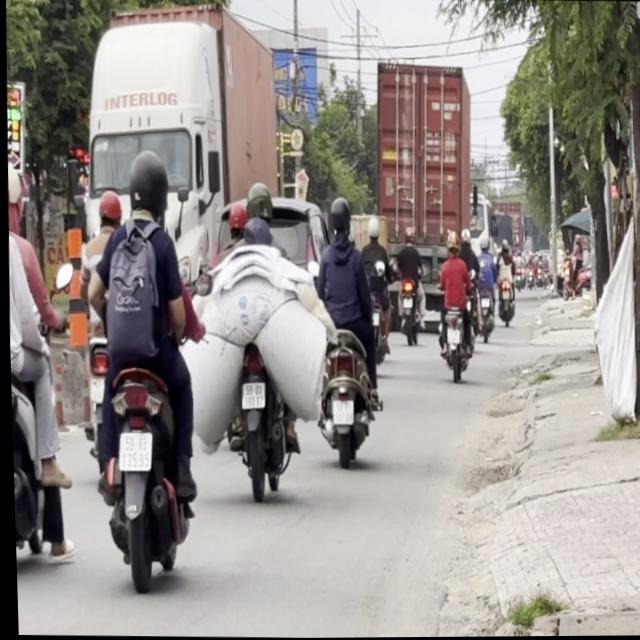helmet: (123, 147, 169, 224), (5, 159, 24, 231), (325, 194, 351, 241), (243, 181, 271, 221), (95, 188, 120, 228), (224, 199, 248, 238)
licenseplate: (70, 149, 205, 590), (187, 175, 332, 499), (4, 153, 73, 573), (304, 193, 384, 465)
nohelmet: (114, 430, 150, 471), (239, 381, 262, 409), (329, 399, 350, 423)
